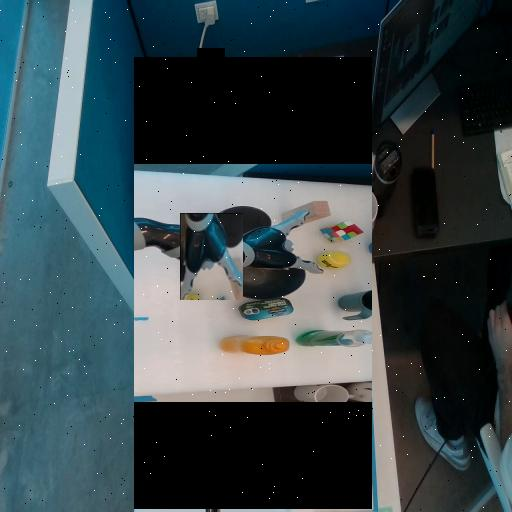bowl: (218, 232, 268, 318)
cleanser: (300, 162, 316, 241)
coffee_can: (176, 267, 214, 338)
jaco: (180, 214, 243, 300)
meat_can: (268, 245, 289, 298)
mug: (259, 143, 289, 199)
mustard_bottle: (306, 249, 324, 317)
rubik: (190, 174, 212, 217)
soup_can: (290, 78, 308, 133)
tennis_ball: (221, 195, 238, 212)
windex: (197, 99, 225, 121)
wooden_block: (171, 208, 195, 254)
workspace: (134, 171, 372, 399)
